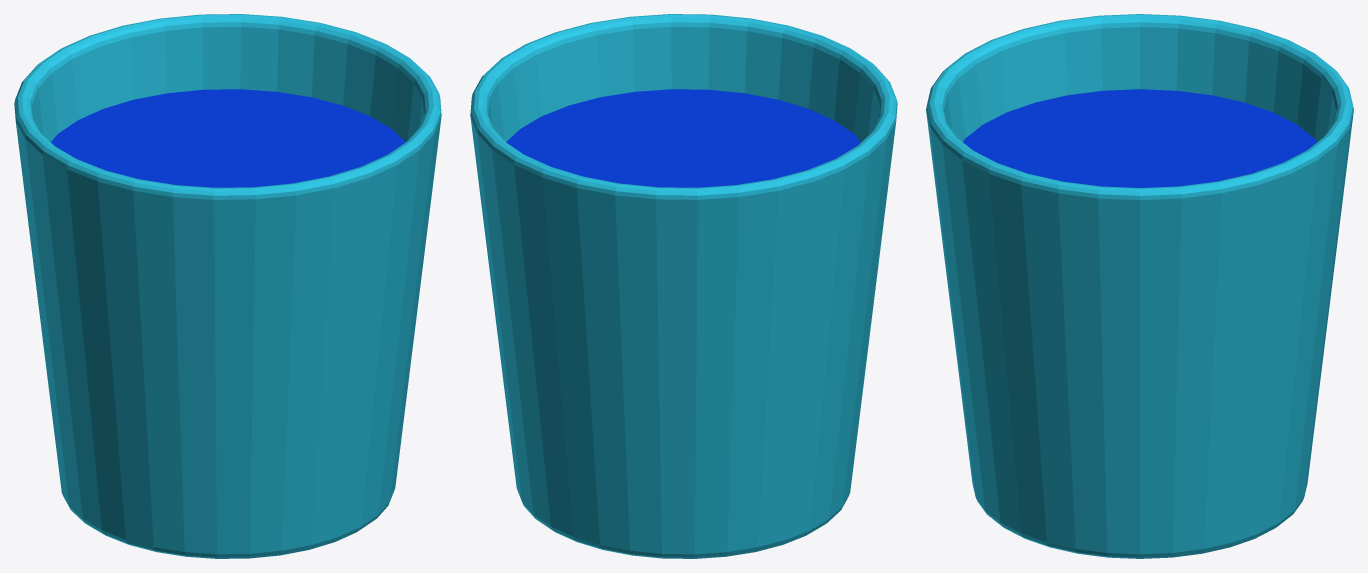
File: Water.fbx
3 views of the same model, side by side, from view 1: azimuth 30°, elevation 25°; view 2: azimuth 150°, elevation 25°; view 3: azimuth 270°, elevation 25° (orthographic).
Visible parts, largest first — view 1: Cylinder, Cylinder.001; view 2: Cylinder, Cylinder.001; view 3: Cylinder, Cylinder.001.
Part boxes in pixels (x1,y1,x2,y2): Cylinder: [14, 14, 441, 558]; Cylinder.001: [51, 89, 405, 187]; Cylinder: [470, 14, 897, 558]; Cylinder.001: [506, 89, 860, 187]; Cylinder: [926, 14, 1353, 558]; Cylinder.001: [963, 89, 1316, 187].
Bounding box in the file's own units: 199 × 200 × 199.
